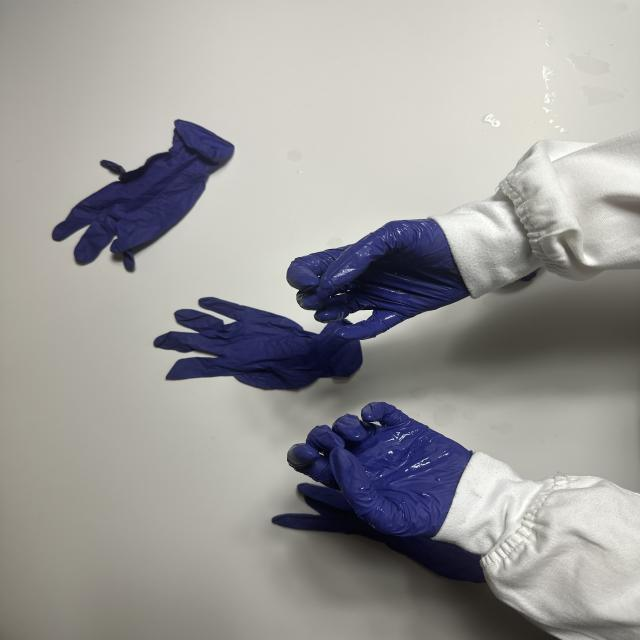gloves_contaminated: (288, 402, 472, 536), (287, 219, 470, 340)
